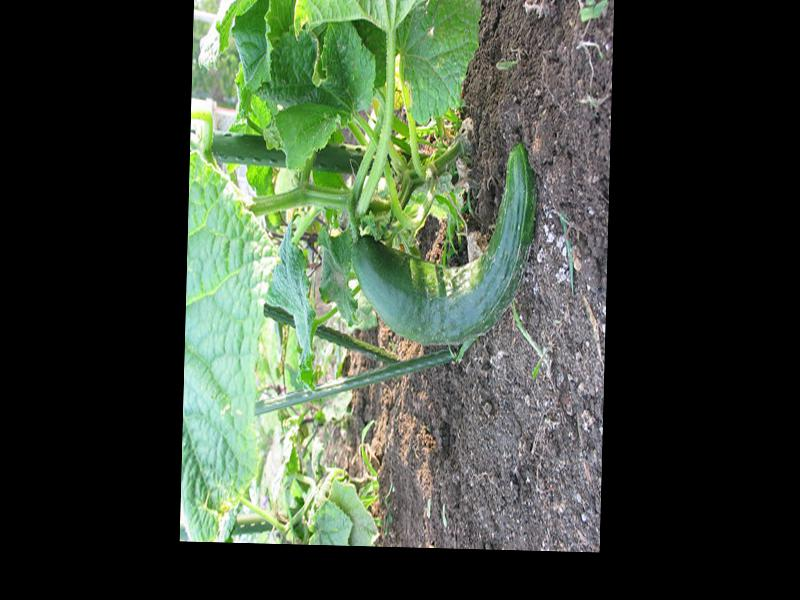Cucumber: (349, 137, 538, 349)
